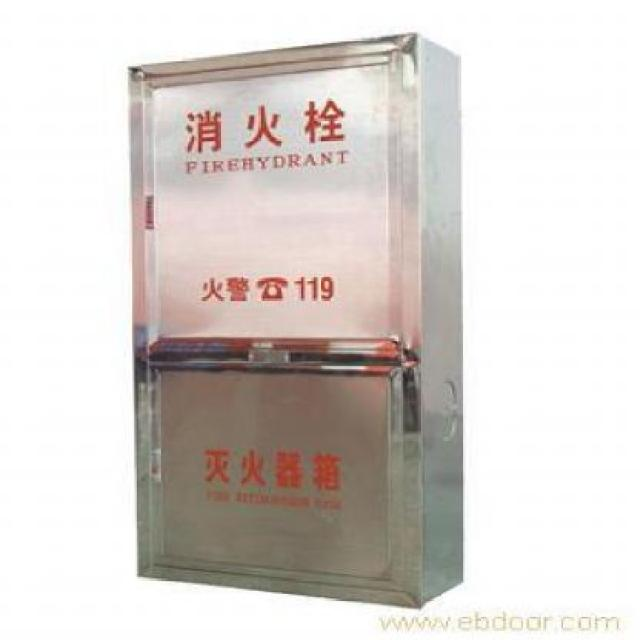firehydrant: (120, 29, 470, 615)
